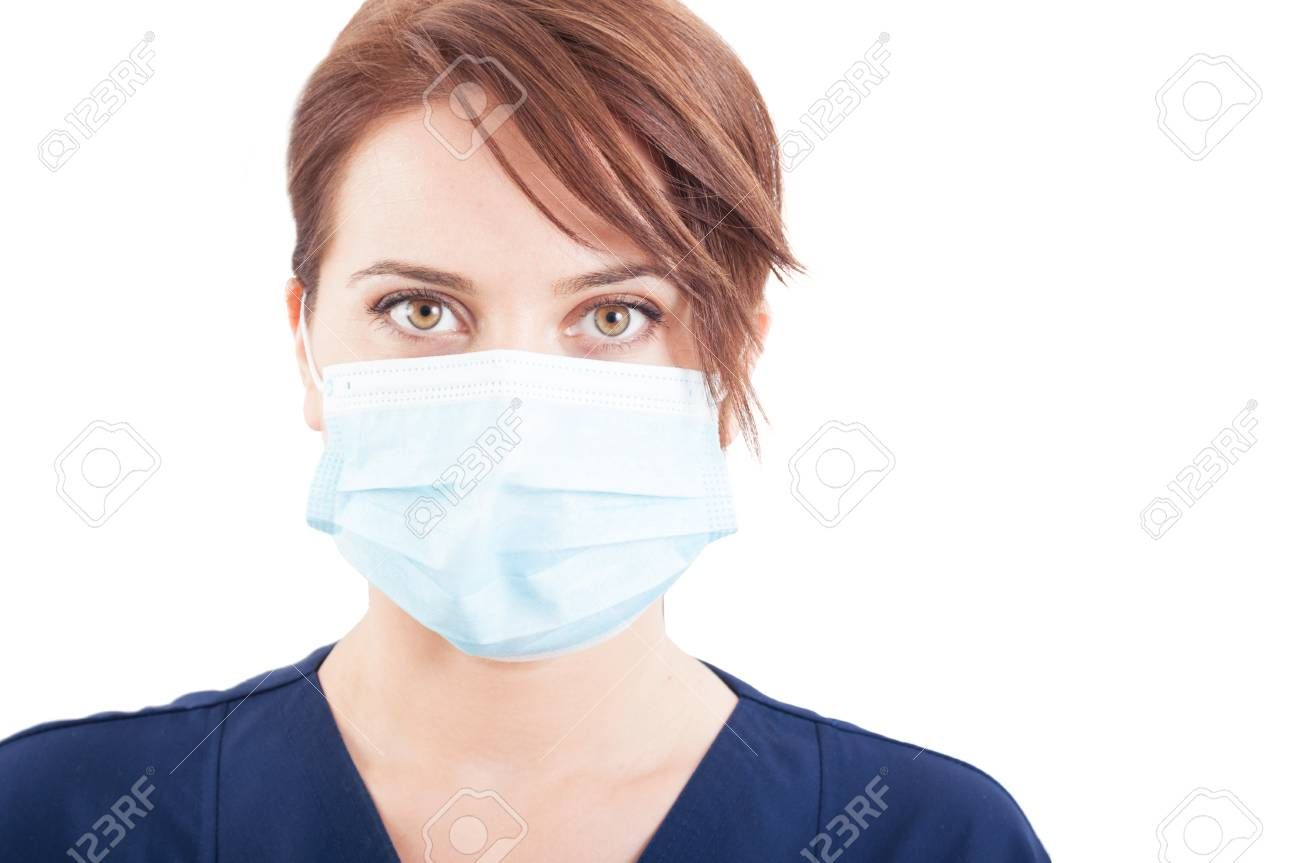mask: (321, 364, 718, 606)
